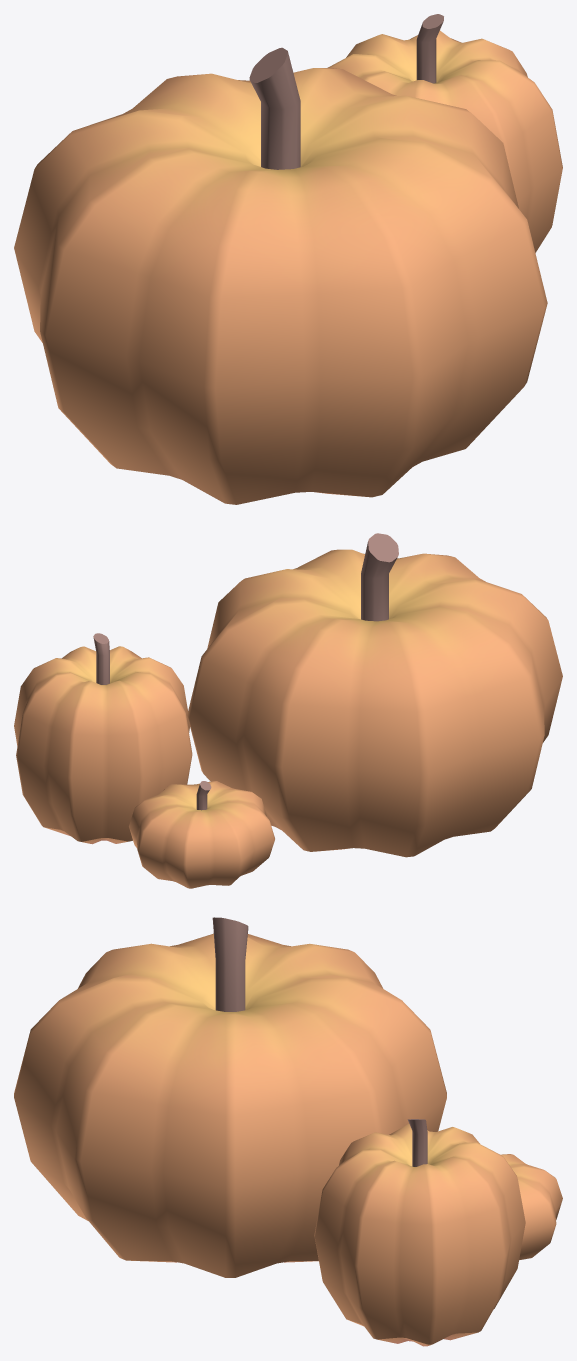
File: pumpkin-set.fbx
3 views of the same model, one above another, from view 1: azimuth 30°, elevation 25°; view 2: azimuth 150°, elevation 25°; view 3: azimuth 270°, elevation 25° (orthographic). The views are drawn at different scales.
Parts seen in each view (by area): view 1: pSphere1, pasted__pSphere1_1; view 2: pSphere1, pasted__pSphere1_1, pasted__pSphere1; view 3: pSphere1, pasted__pSphere1_1, pasted__pSphere1.
Boxes of the visible parts, x1,y1,x2,y2 form: pSphere1: (14,47,547,504); pasted__pSphere1_1: (327,14,562,252); pSphere1: (187,533,562,857); pasted__pSphere1_1: (14,633,192,844); pasted__pSphere1: (129,781,274,888); pSphere1: (14,917,446,1277); pasted__pSphere1_1: (314,1119,525,1346); pasted__pSphere1: (501,1154,562,1260).
Bounding box in the file's own units: 431 × 274 × 419.
Materials: 1 (1 with a texture image).
